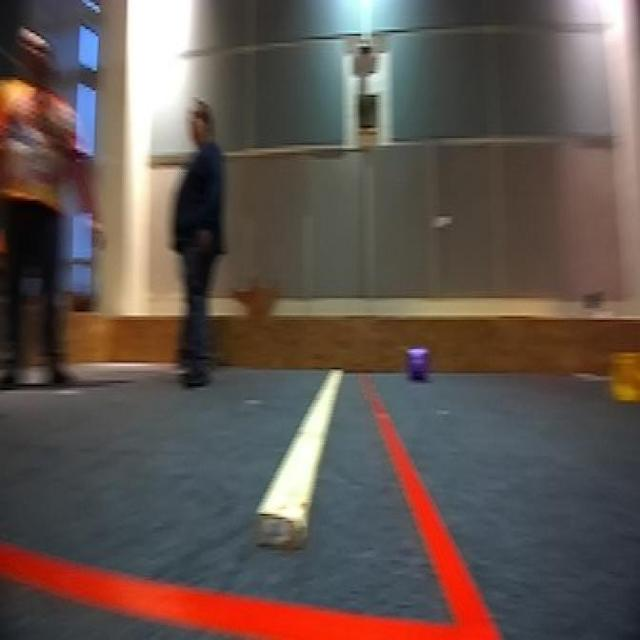frc_cone: (615, 349, 640, 403)
frc_cube: (408, 346, 428, 383)
